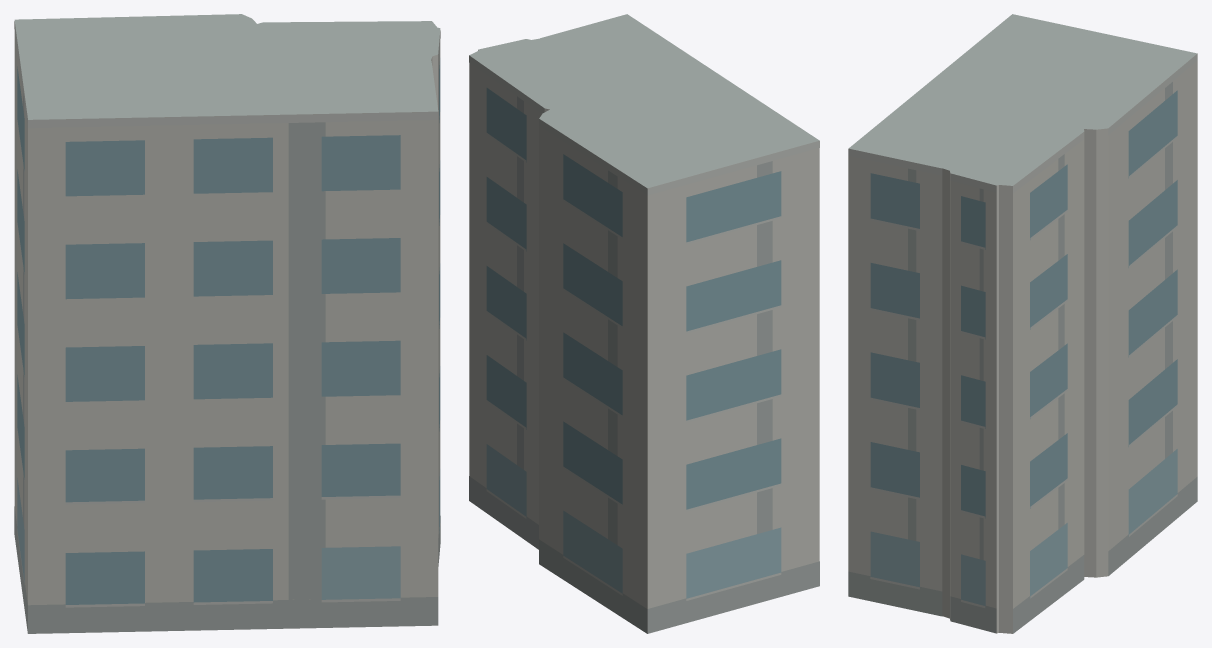
Rendered from survey-upis-32726311.glb.
3 views of the same model, side by side, from view 1: azimuth 30°, elevation 25°; view 2: azimuth 150°, elevation 25°; view 3: azimuth 270°, elevation 25° (orthographic). The views are drawn at different scales.
Visible parts, largest first — view 1: survey-upis-32726311.tmp; view 2: survey-upis-32726311.tmp; view 3: survey-upis-32726311.tmp.
Boxes of the visible parts, x1,y1,x2,y2 form: survey-upis-32726311.tmp: [14, 14, 440, 633]; survey-upis-32726311.tmp: [469, 14, 819, 633]; survey-upis-32726311.tmp: [848, 14, 1197, 633].
Bounding box in the file's own units: 12.27 × 14.9 × 10.53.
